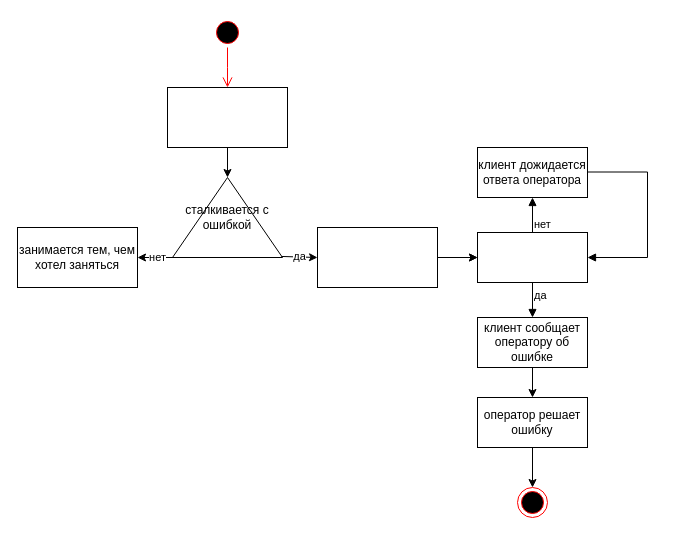
Image size: 673x535. Some labels were removed from this diagram. The shapes that lost their labels are listed below. From the top down, each one's box as (x1, y1, x2, y2) in pixels, then its label:
(166, 86, 288, 148): клиент заходит в приложение
(316, 226, 438, 288): обращается в службу поддержки
(476, 232, 588, 282): клиенту отвечает оператор
